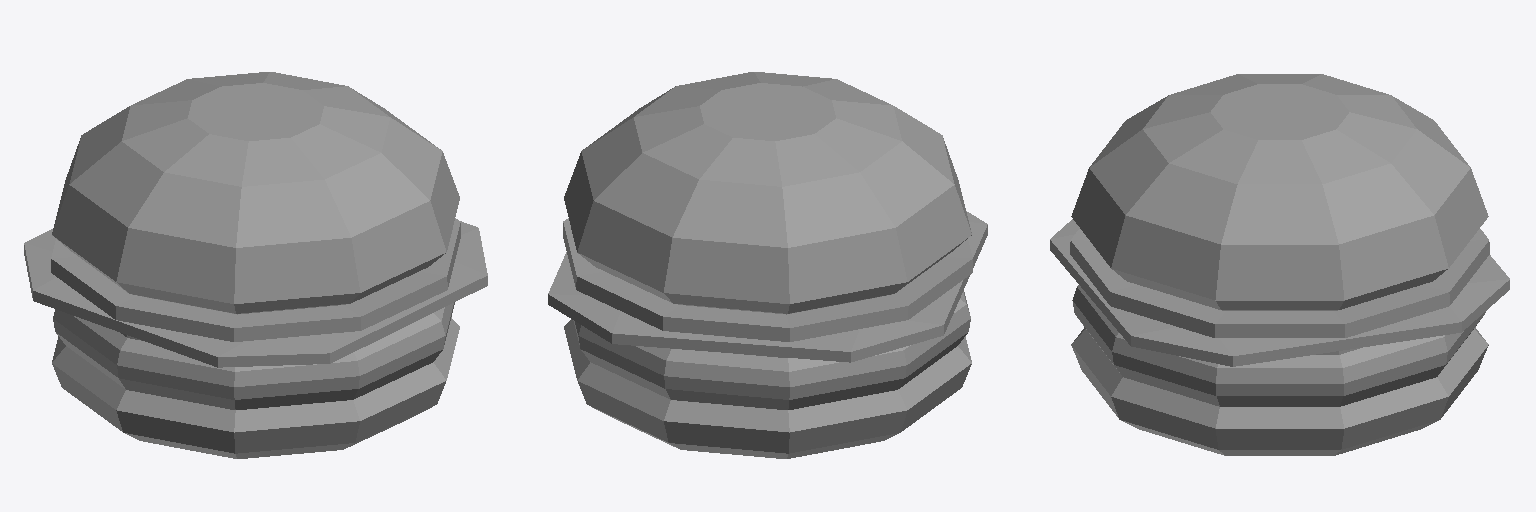
File: Burger.obj
The picture shows the model from 3 angles: view 1: azimuth 30°, elevation 25°; view 2: azimuth 150°, elevation 25°; view 3: azimuth 270°, elevation 25°; orthographic projection.
Visible parts, largest first — view 1: Burger_Cylinder; view 2: Burger_Cylinder; view 3: Burger_Cylinder.
Part boxes in pixels (left/top/right/bottom): Burger_Cylinder: left=24, top=72, right=487, bottom=458; Burger_Cylinder: left=548, top=72, right=987, bottom=458; Burger_Cylinder: left=1050, top=74, right=1509, bottom=455.
Size of the model in its own units: 0.6648 by 0.4583 by 0.6648.